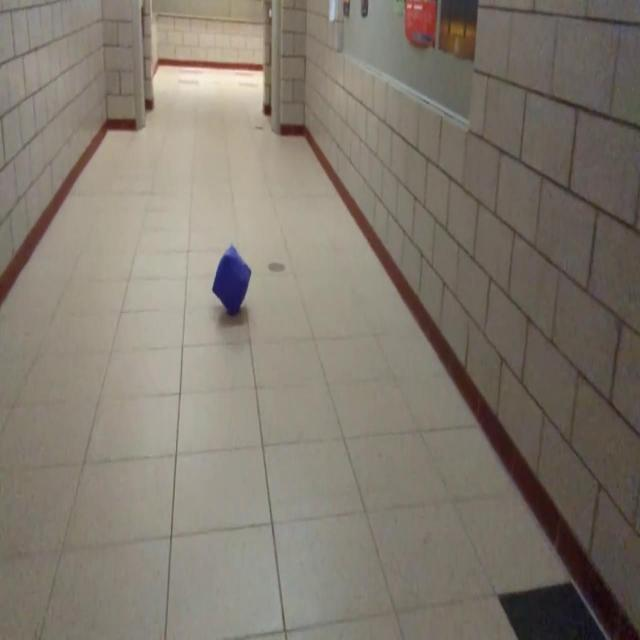frc_cube: (210, 246, 250, 315)
